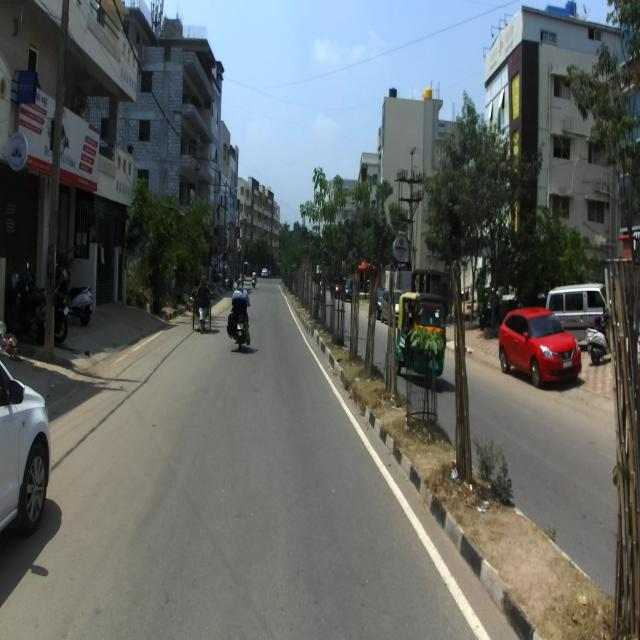car ahead at: (495, 301, 582, 389)
